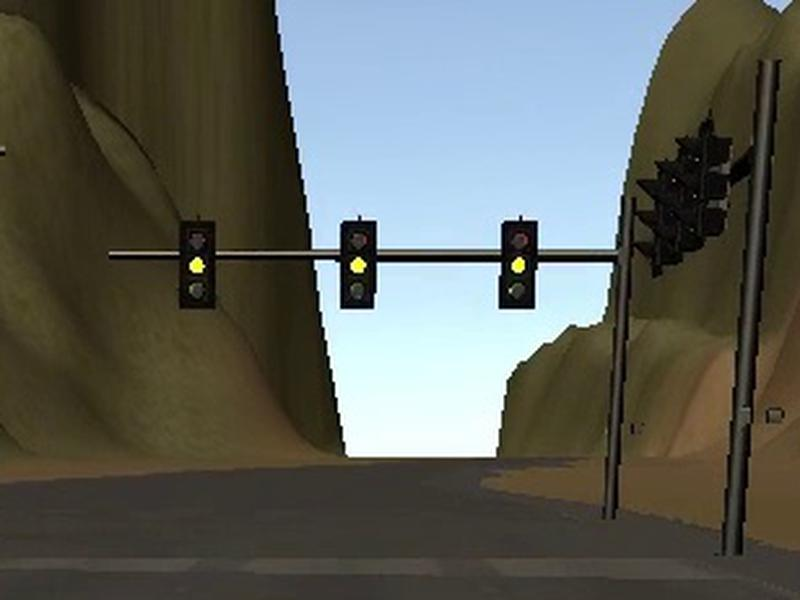Yellow: (497, 220, 539, 309), (339, 219, 377, 310), (177, 221, 215, 309)
